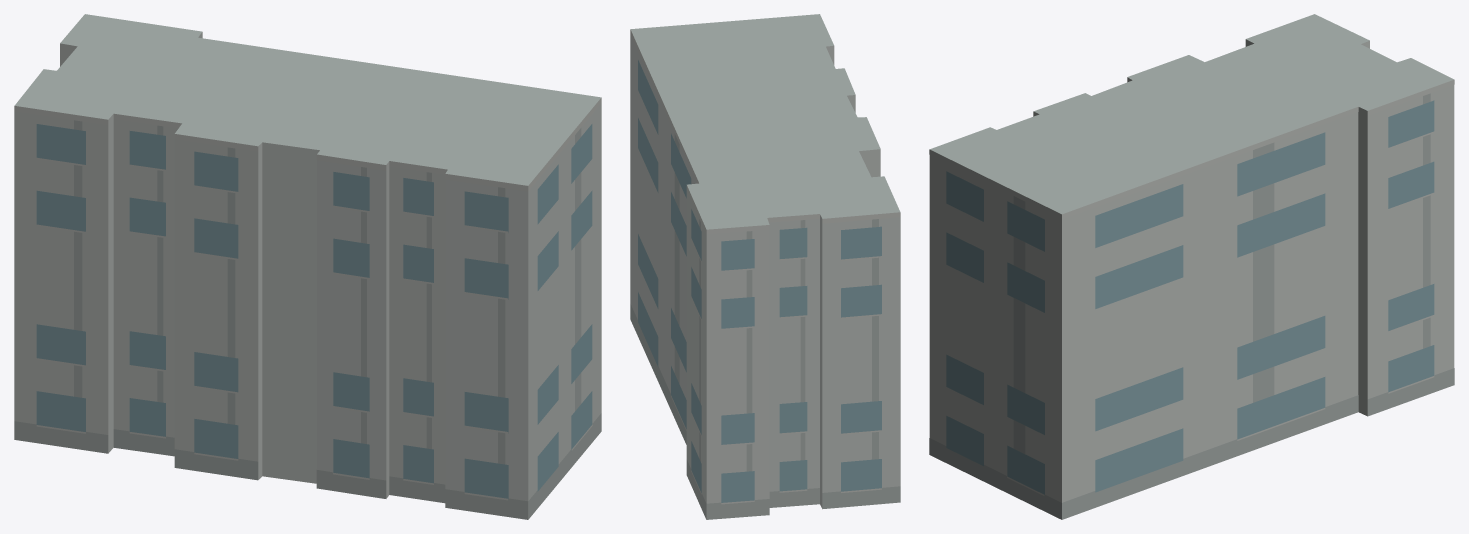
Rendered from survey-upis-32626504.glb.
3 views of the same model, side by side, from view 1: azimuth 30°, elevation 25°; view 2: azimuth 150°, elevation 25°; view 3: azimuth 270°, elevation 25° (orthographic). The views are drawn at different scales.
Parts seen in each view (by area): view 1: survey-upis-32626504.tmp; view 2: survey-upis-32626504.tmp; view 3: survey-upis-32626504.tmp.
Boxes of the visible parts, x1,y1,x2,y2 form: survey-upis-32626504.tmp: (14,14,601,519); survey-upis-32626504.tmp: (630,14,900,519); survey-upis-32626504.tmp: (929,14,1454,519).
Size of the model in its own units: 20.26 by 14.4 by 22.43.
